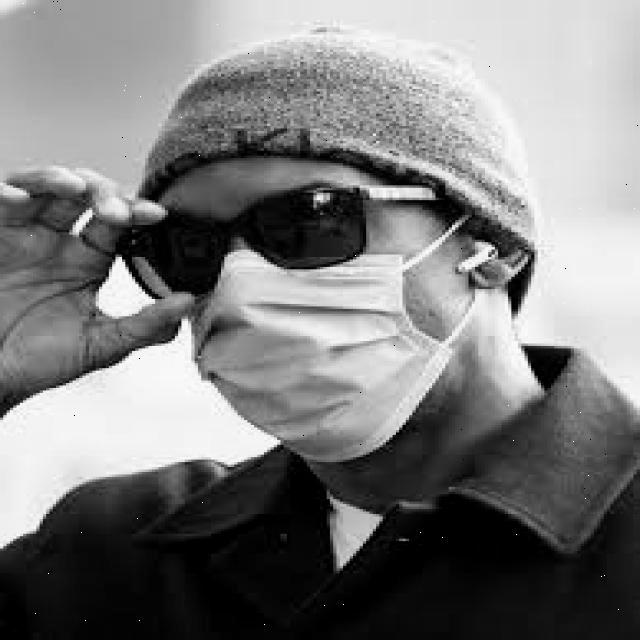fake: (118, 230, 506, 460), (108, 173, 385, 309)
